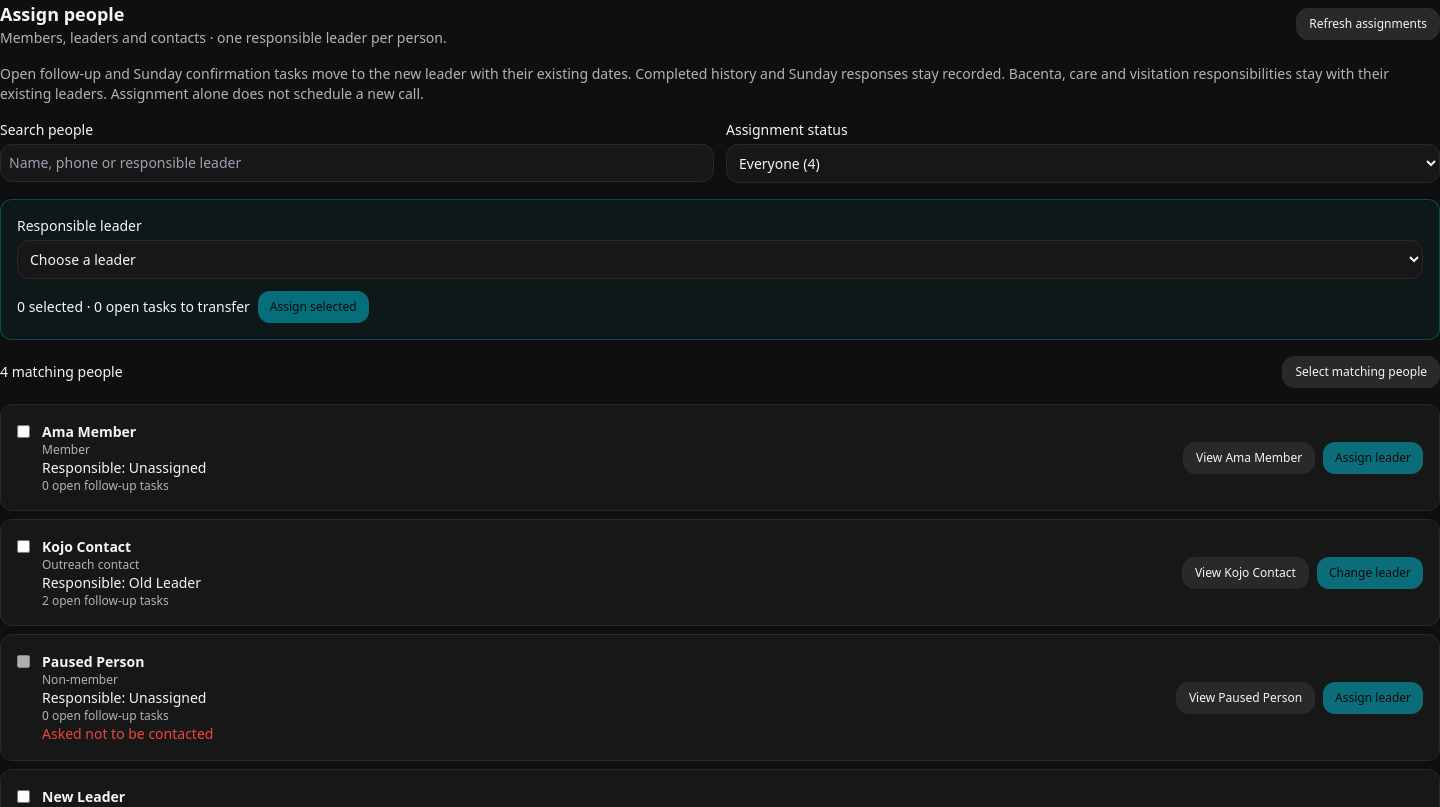
Test: Follow-up assignment management › searches members and current leaders, and assigns a member without scheduling outreach
The image size is (1440, 807).
Expected: the checkbox named "Select Ama Member" is shown, [17, 425, 30, 438]
In the search field labelled "Search people": [357, 163] box [0, 144, 714, 182], type "Ama"
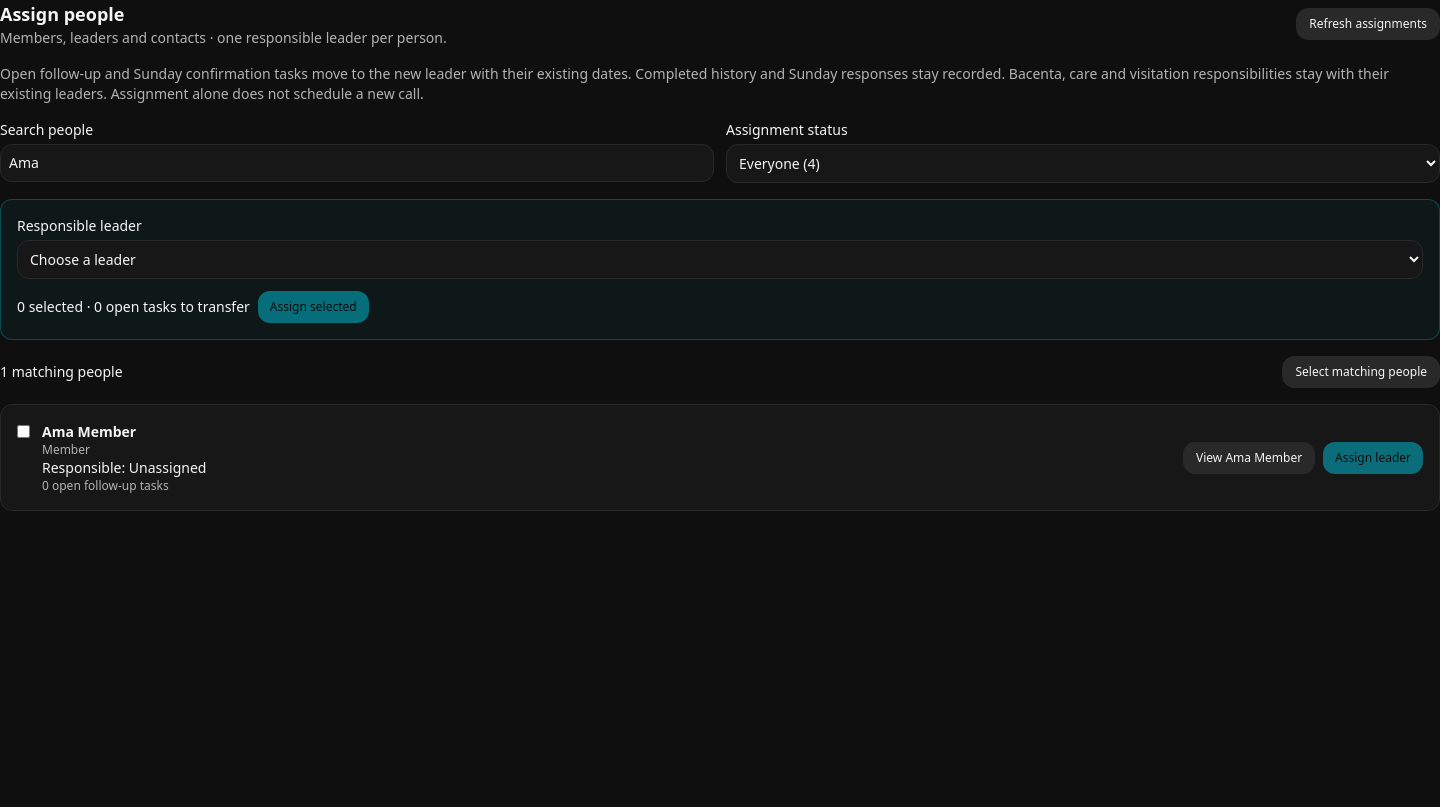
Select "New Leader" in the dropdown labelled "Responsible leader": [720, 260] box [17, 240, 1423, 279]
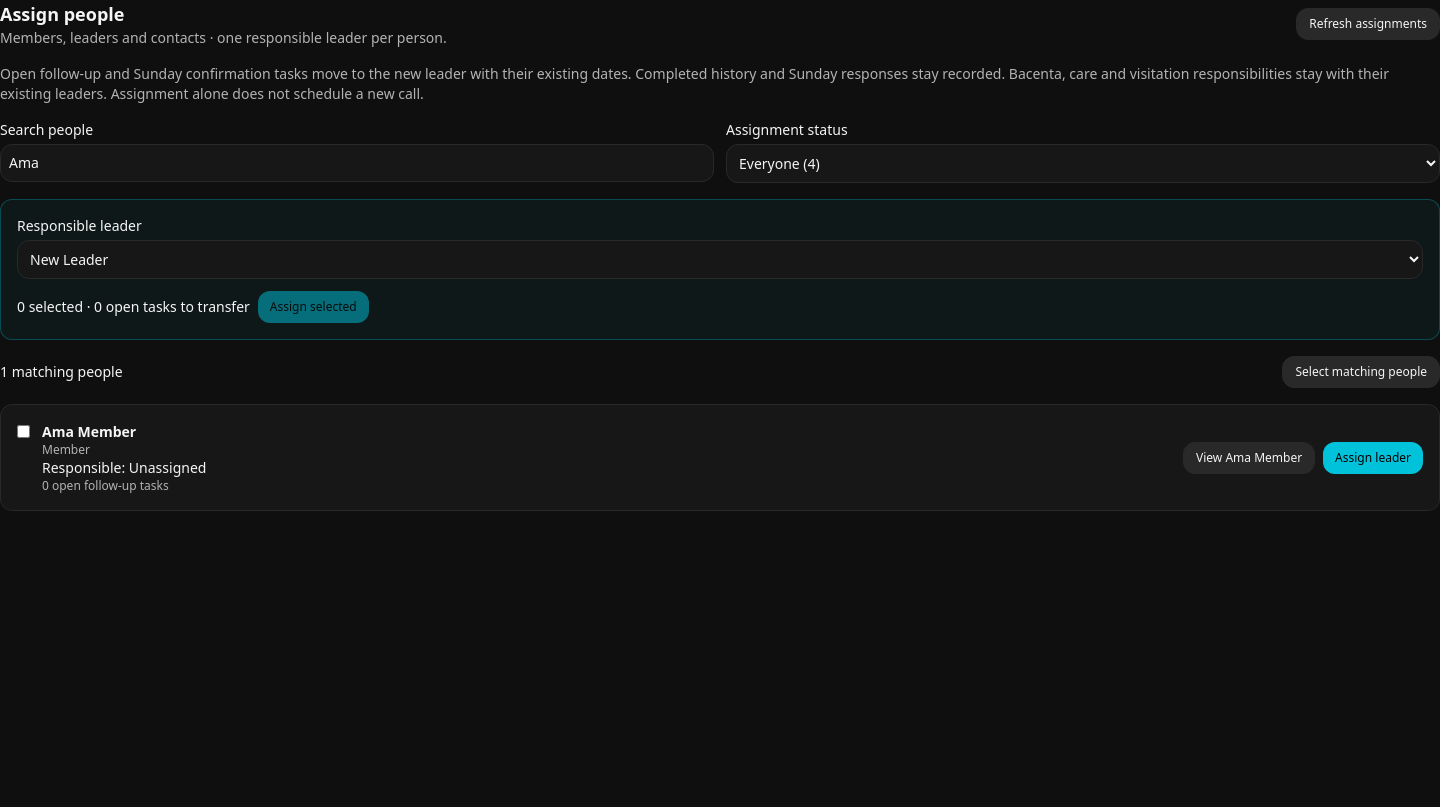
Click the checkbox named "Select Ama Member": [24, 432] box [17, 425, 30, 438]
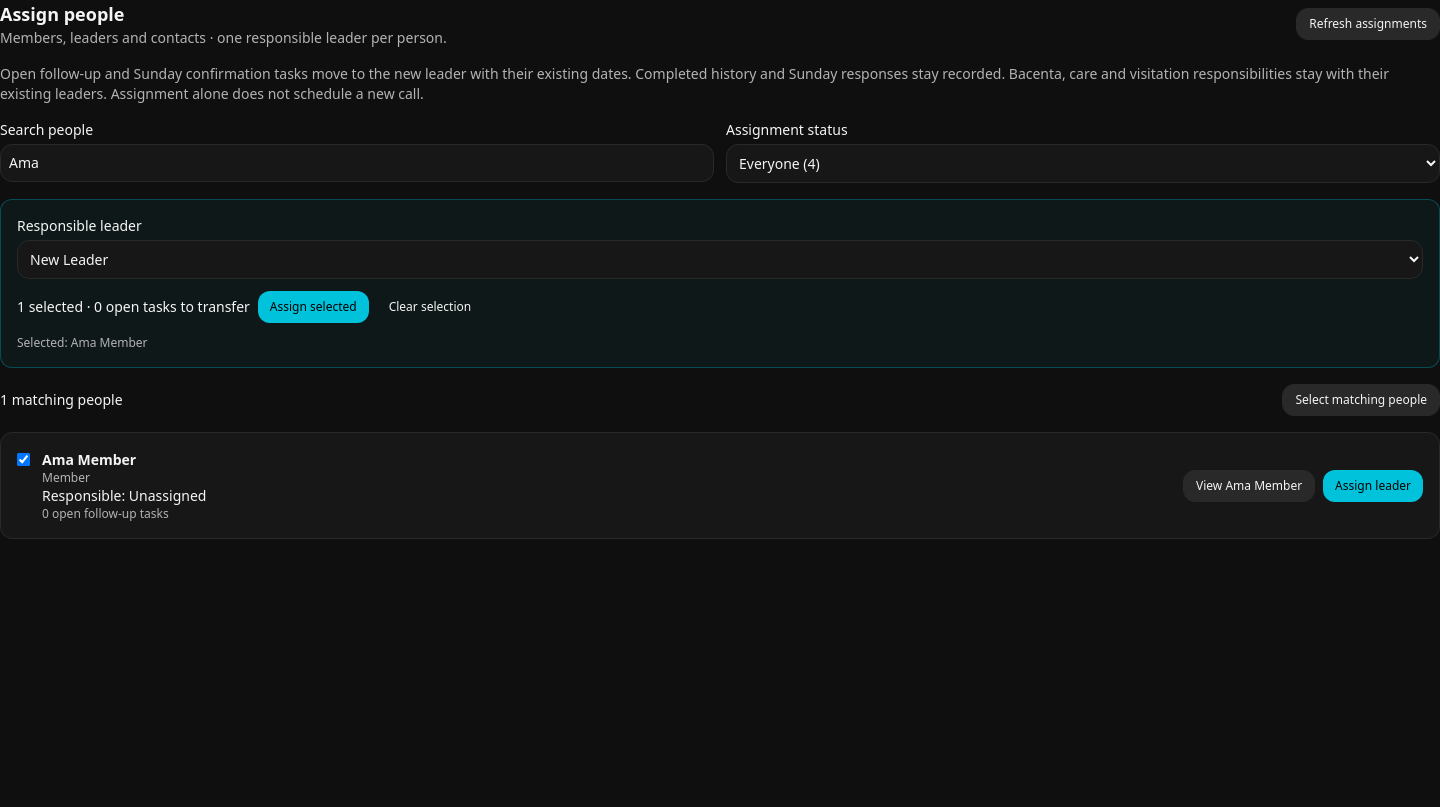
Click the button "Assign selected": [313, 307] box [258, 291, 369, 323]
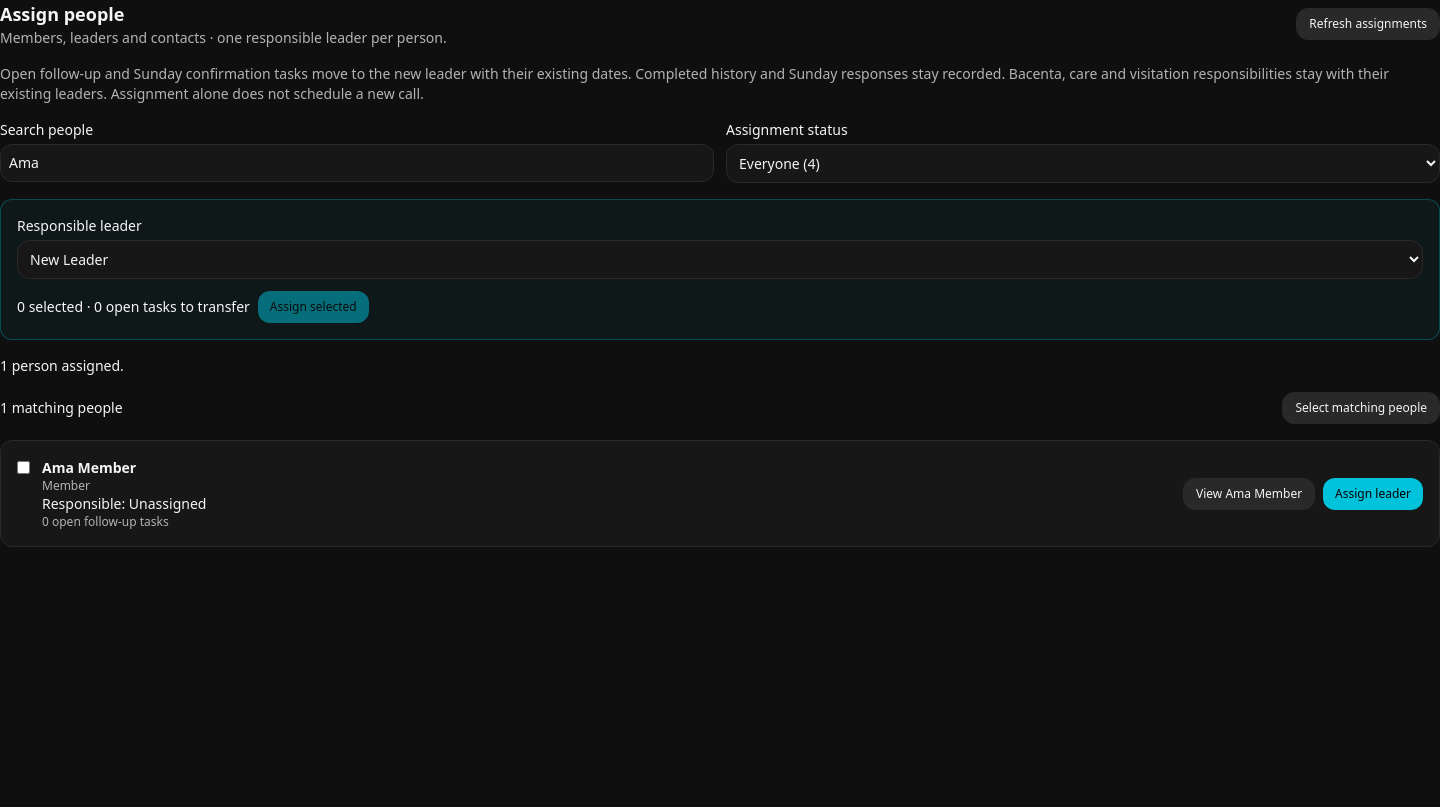
Expected: the text "1 person assigned." is shown, [0, 356, 124, 375]
